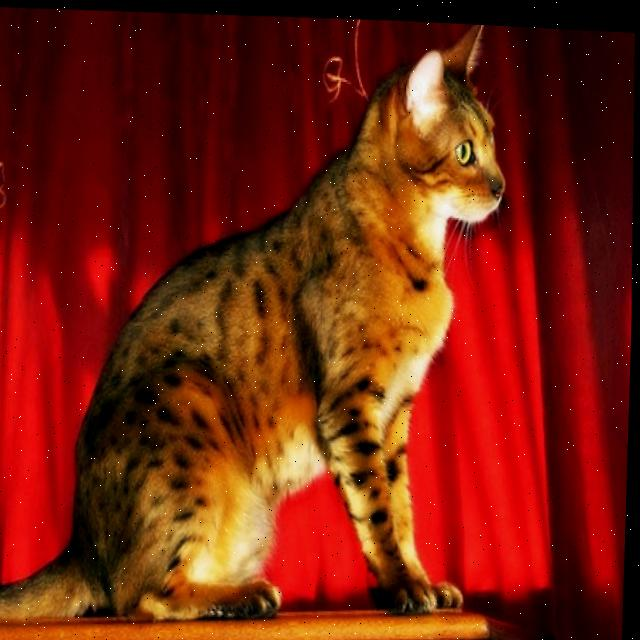Bengal: (0, 0, 520, 640)
